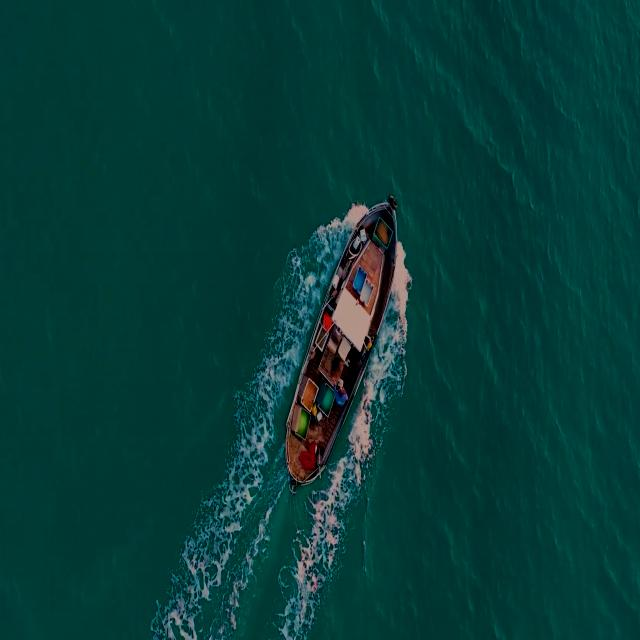ship: (279, 194, 408, 490)
